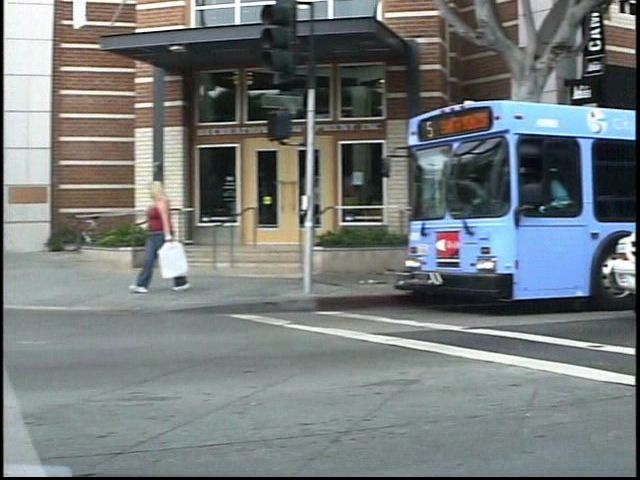person: (140, 178, 197, 300)
